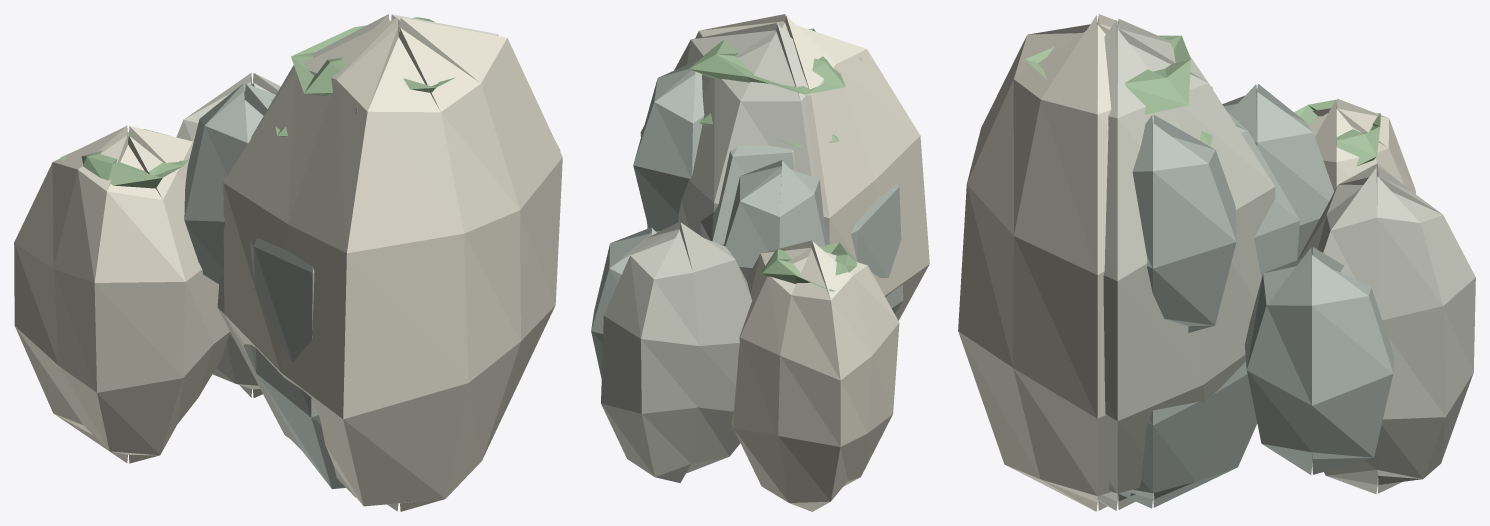
The model's file is cliff_outcrop.glb.
3 renders of one model, left to right at view 1: azimuth 30°, elevation 25°; view 2: azimuth 150°, elevation 25°; view 3: azimuth 270°, elevation 25°, orthographic. The views are drawn at different scales.
Visible parts, largest first — view 1: cliff_outcrop; view 2: cliff_outcrop; view 3: cliff_outcrop.
Boxes of the visible parts, x1,y1,x2,y2 form: cliff_outcrop: (14,14,562,511); cliff_outcrop: (591,14,929,511); cliff_outcrop: (958,14,1475,511).
Bounding box in the file's own units: 2.69 × 3.2 × 3.01.
